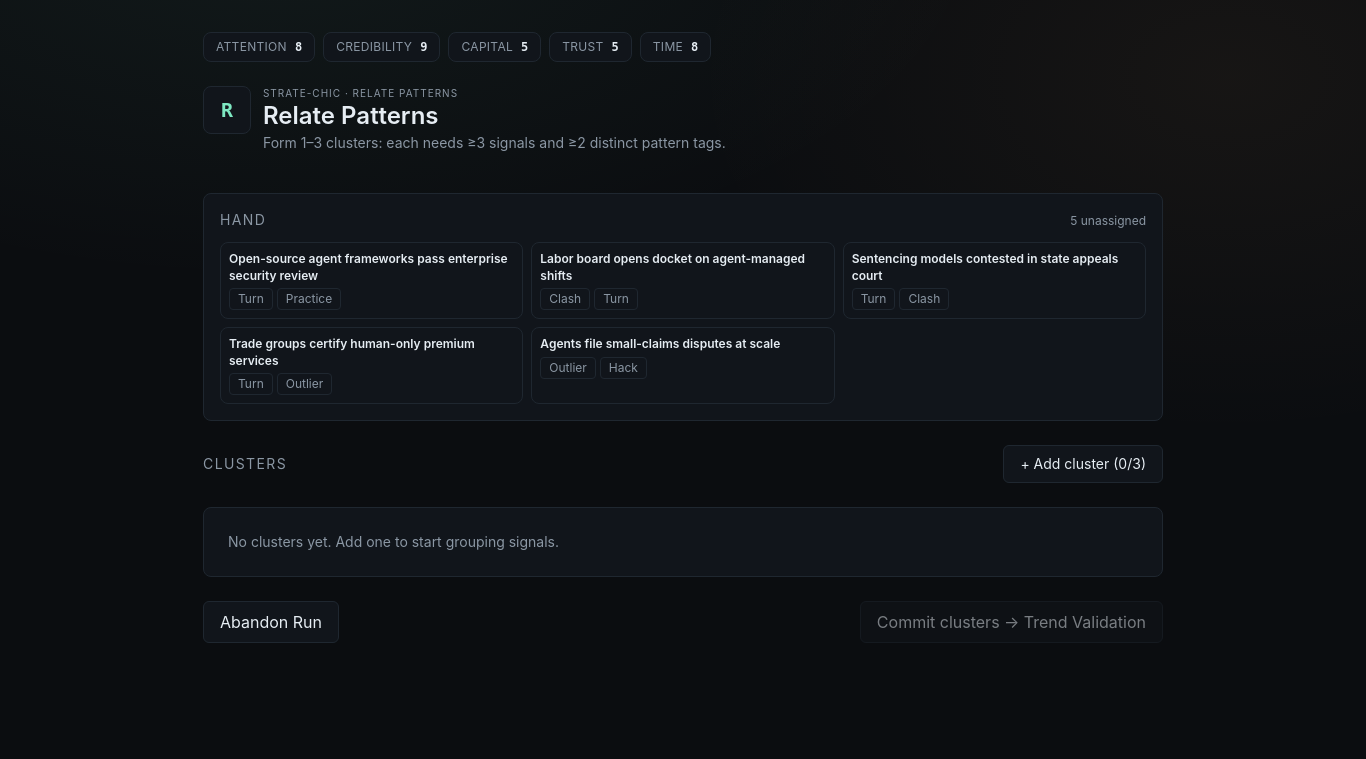
it: PatternBoard smoke › Add cluster makes one appear and disables at 3
Click the button with test id "add-cluster": coordinates (1083, 464) top-left (1003, 445), bottom-right (1163, 483)
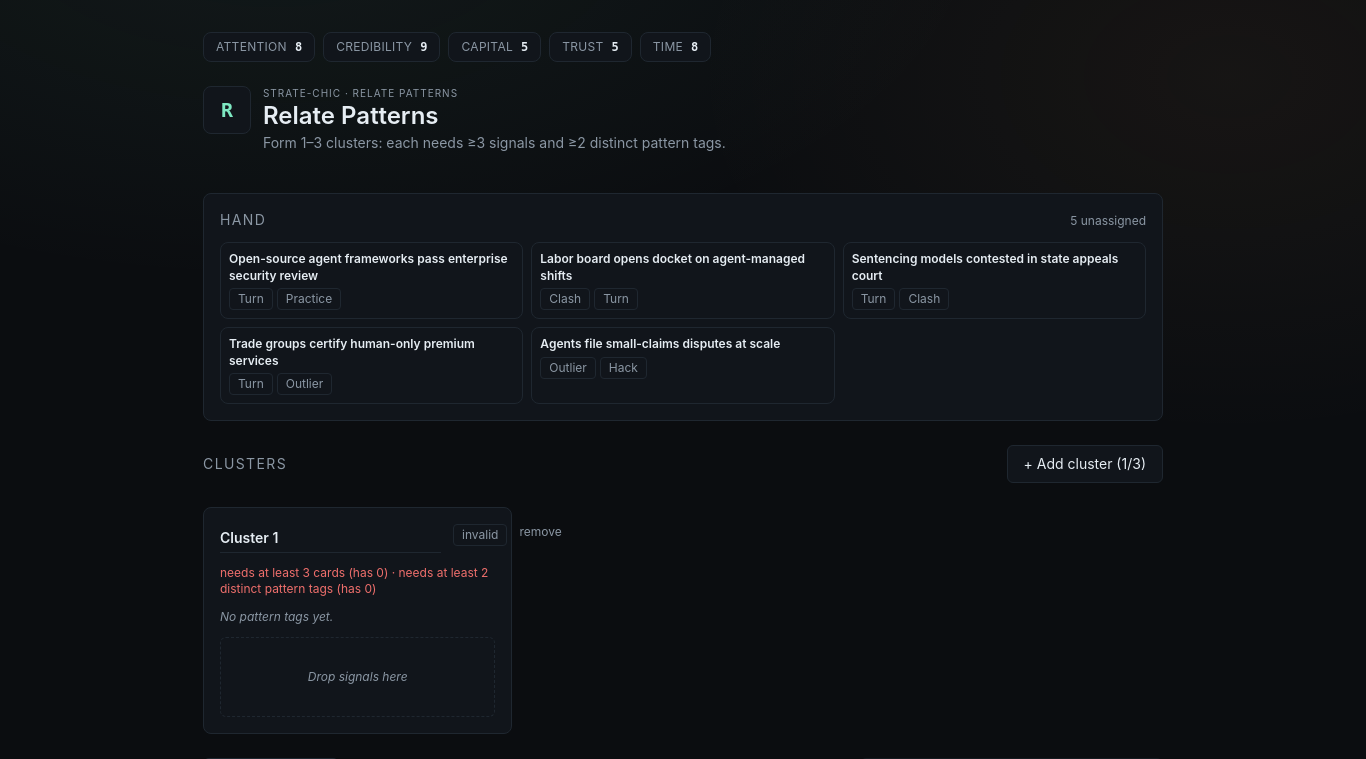
Click the button with test id "add-cluster": coordinates (1085, 464) top-left (1007, 445), bottom-right (1163, 483)
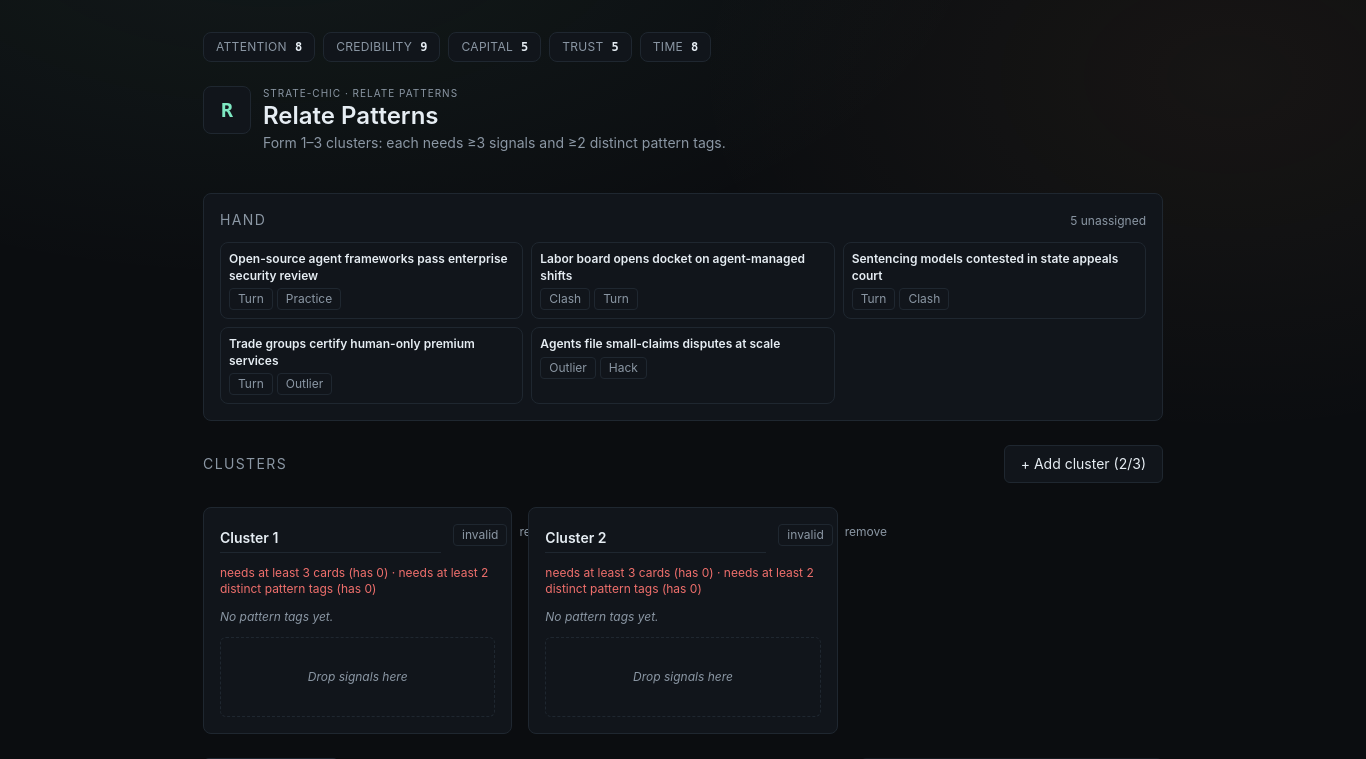
Click the button with test id "add-cluster": coordinates (1083, 464) top-left (1004, 445), bottom-right (1163, 483)
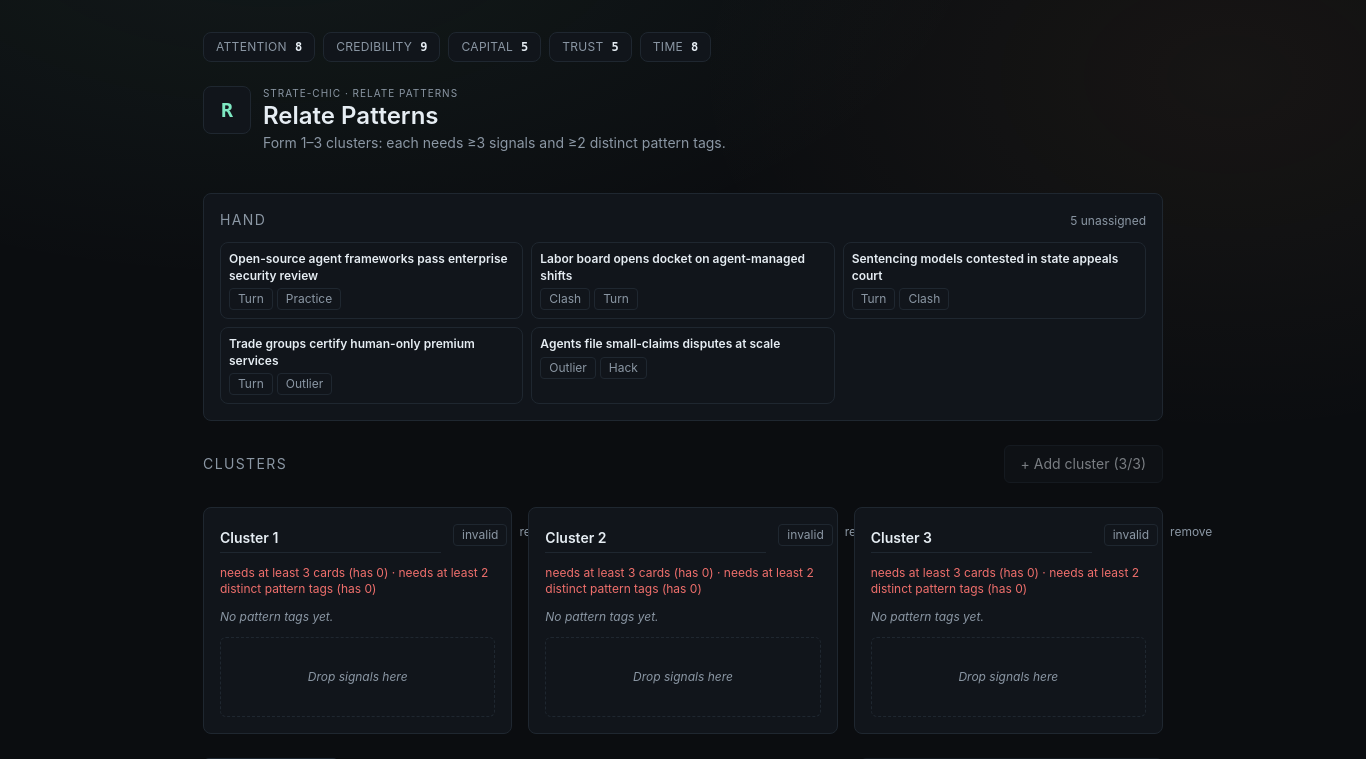
Now the button with test id "add-cluster" is disabled, box top-left (1004, 445), bottom-right (1163, 483)
